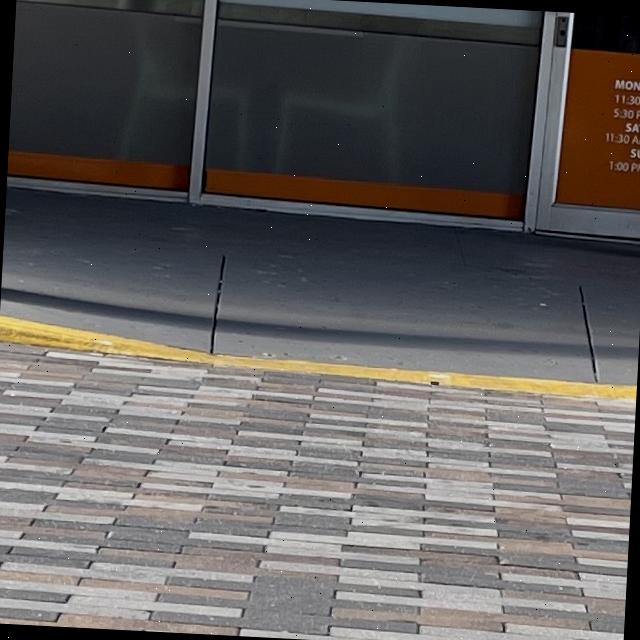curb: (0, 315, 636, 401)
